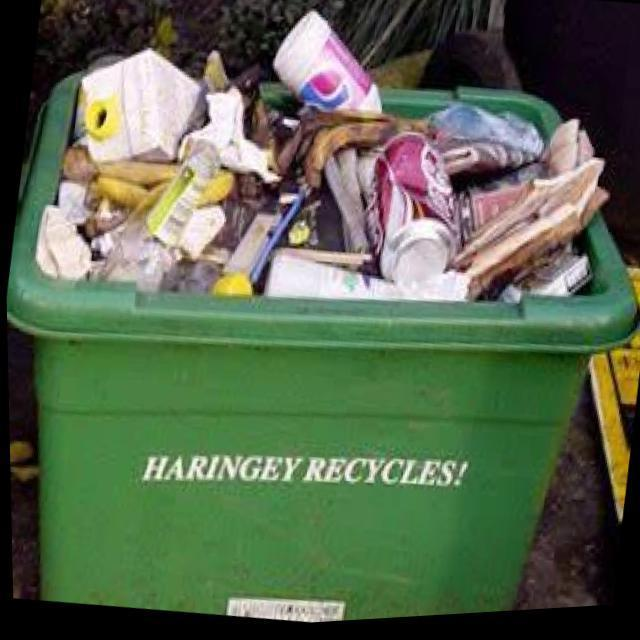Garbage: (24, 1, 629, 314)
Plastic_Container: (273, 14, 381, 118)
Plastic_bottle: (101, 144, 219, 292)
Tetrapack: (75, 52, 200, 163)
can: (365, 137, 458, 290)
